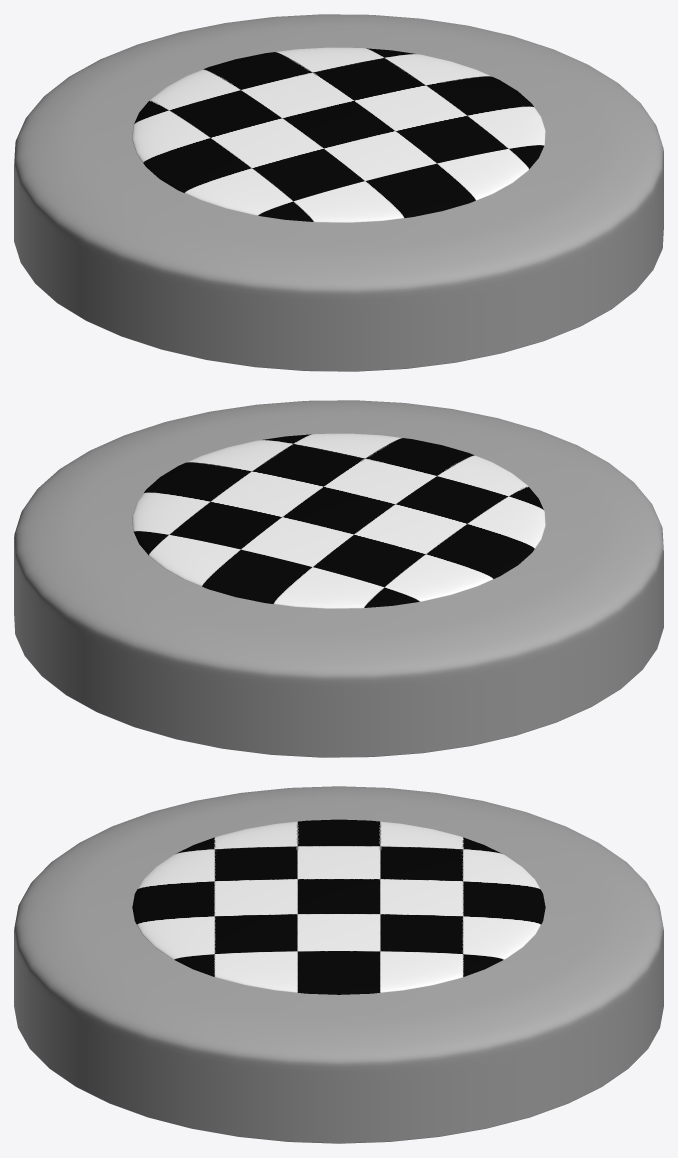
File: endButton.fbx
3 renders of one model, top to bottom at view 1: azimuth 30°, elevation 25°; view 2: azimuth 150°, elevation 25°; view 3: azimuth 270°, elevation 25°, orthographic.
Parts seen in each view (by area): view 1: button_border2, checkered_button; view 2: button_border2, checkered_button; view 3: button_border2, checkered_button.
Boxes of the visible parts, bbox=[...] form: button_border2: bbox=[14, 14, 663, 371]; checkered_button: bbox=[132, 47, 545, 222]; button_border2: bbox=[14, 400, 663, 757]; checkered_button: bbox=[132, 433, 545, 608]; button_border2: bbox=[14, 786, 663, 1143]; checkered_button: bbox=[132, 819, 545, 994].
Size of the model in its own units: 87.3 by 16.42 by 87.25.
Materials: 2 (1 with a texture image).
